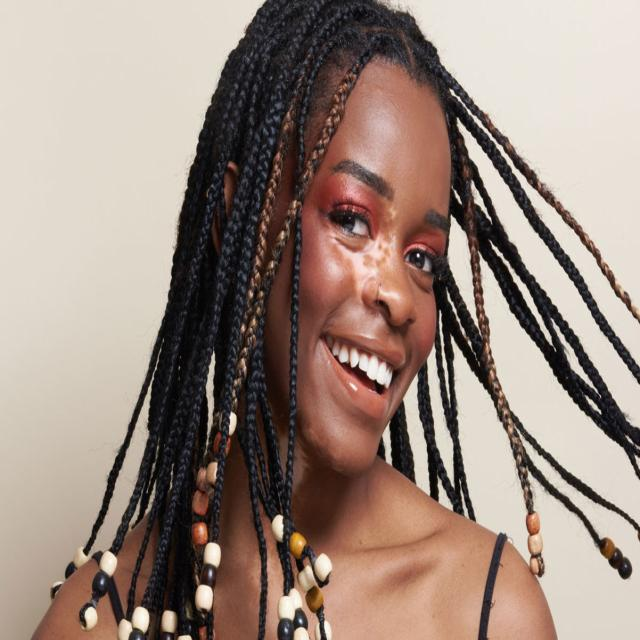vitiligo: (316, 166, 408, 310)
